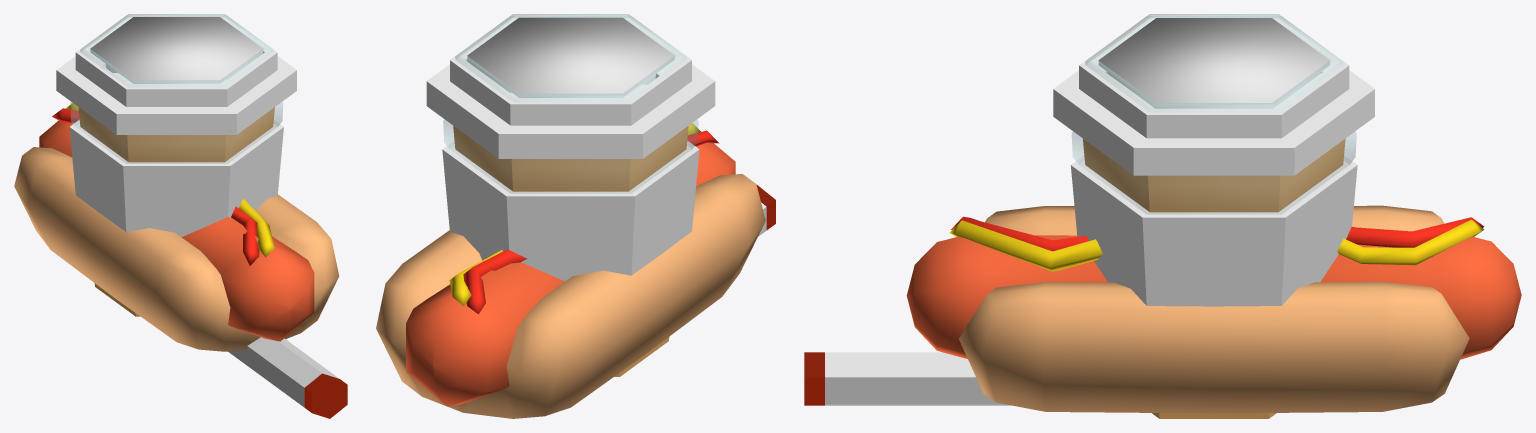
File: Holdables.glb
3 renders of one model, left to right at view 1: azimuth 30°, elevation 25°; view 2: azimuth 150°, elevation 25°; view 3: azimuth 270°, elevation 25°, orthographic. The views are drawn at different scales.
Parts seen in each view (by area): view 1: Hotdog, CoffeeCup, BeerPint, Cig; view 2: Hotdog, CoffeeCup, BeerPint, Cig; view 3: Hotdog, CoffeeCup, BeerPint, Cig.
Part boxes in pixels (x1,y1,x2,y2): Hotdog: (14, 103, 339, 351); CoffeeCup: (56, 15, 296, 316); BeerPint: (70, 14, 282, 163); Cig: (228, 337, 347, 418); Hotdog: (376, 123, 765, 418); CoffeeCup: (426, 15, 715, 376); BeerPint: (443, 14, 698, 192); Cig: (756, 185, 775, 236); Hotdog: (906, 205, 1521, 413); CoffeeCup: (1053, 16, 1374, 418); BeerPint: (1072, 14, 1356, 213); Cig: (804, 352, 1011, 405).
Size of the model in its own units: 0.8609 by 1.18 by 2.22.
